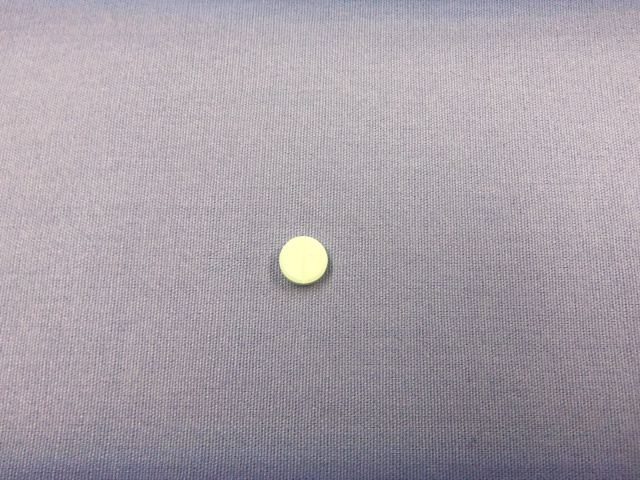|: (299, 237, 309, 283)
